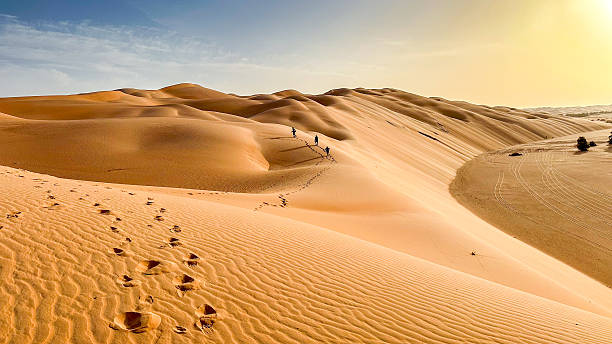human_footprint: (109, 311, 160, 332), (173, 273, 201, 296), (194, 304, 216, 332), (136, 260, 176, 274), (116, 274, 140, 287), (136, 295, 154, 309), (160, 237, 181, 247), (183, 253, 199, 266), (109, 247, 127, 256), (167, 237, 181, 246), (43, 202, 59, 209), (6, 211, 21, 218), (173, 325, 186, 333), (170, 225, 181, 232), (99, 209, 111, 215), (154, 215, 163, 221), (110, 226, 119, 232), (159, 208, 167, 213), (145, 200, 153, 204), (93, 202, 100, 206)
